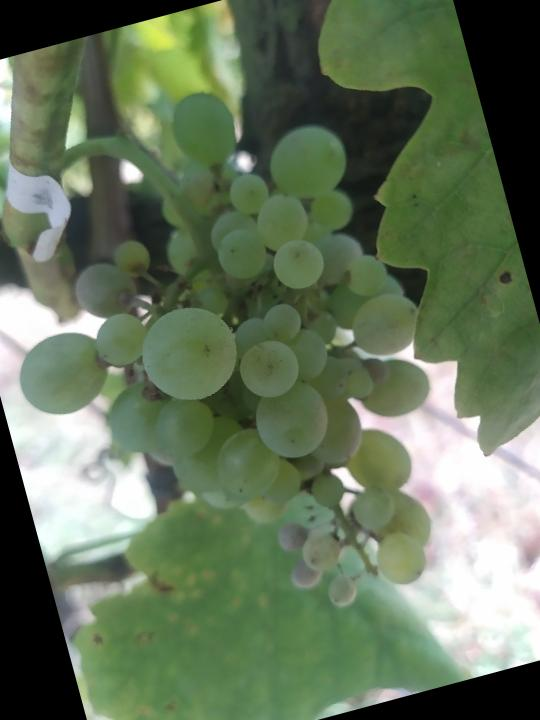grape: (0, 47, 493, 677)
